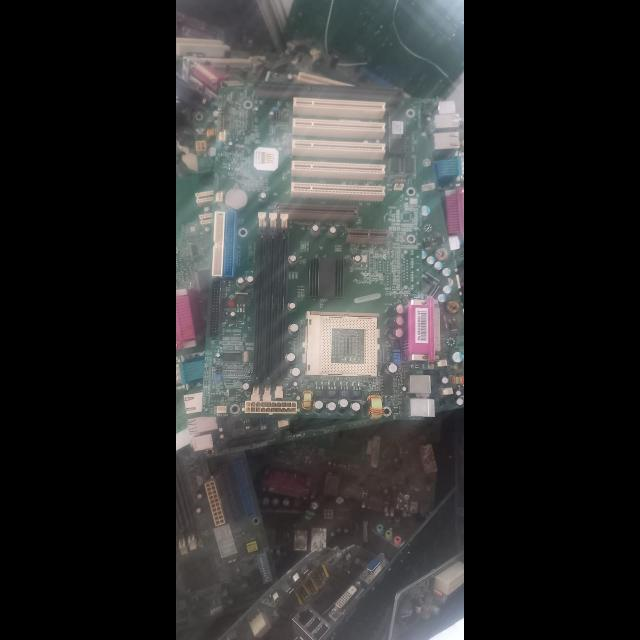PCB: (180, 26, 464, 442)
